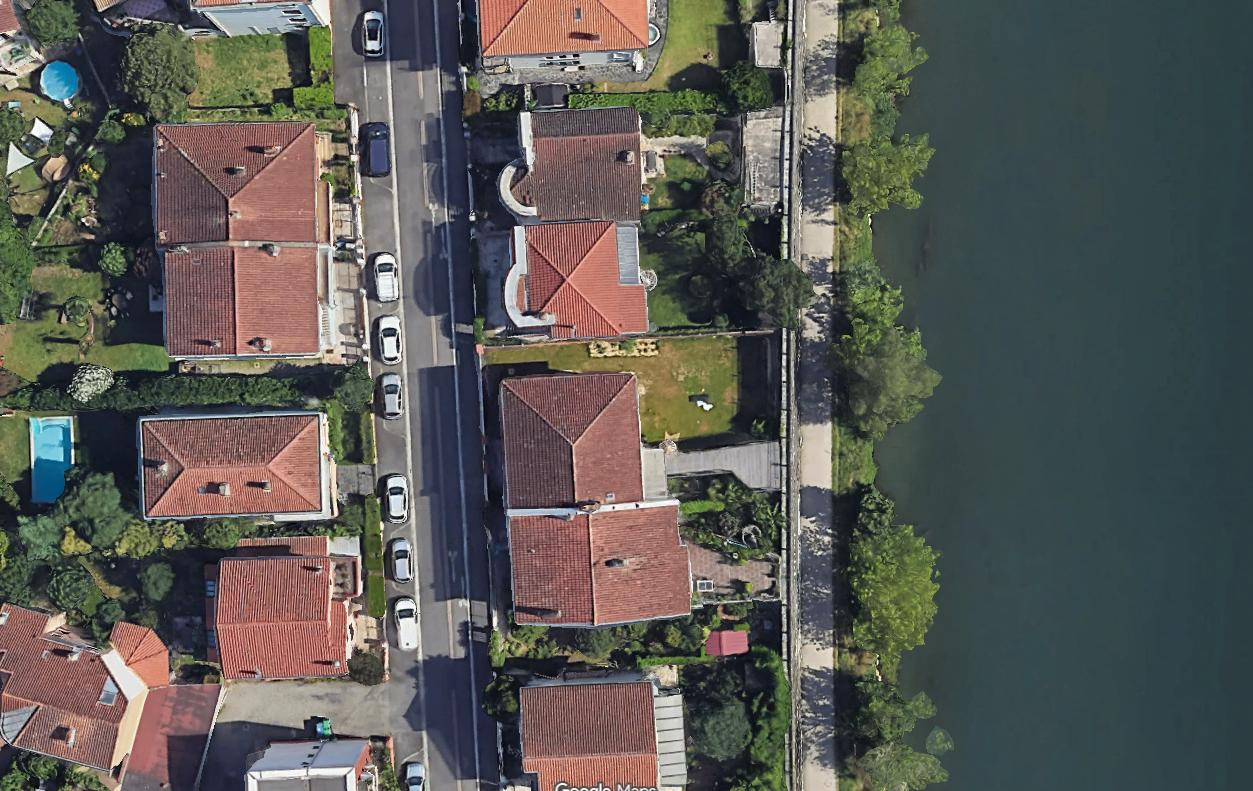maison: (0, 602, 175, 778), (508, 502, 692, 631), (138, 412, 336, 520), (495, 367, 643, 510), (494, 213, 648, 350), (153, 124, 319, 247), (205, 554, 357, 680), (496, 106, 645, 224), (165, 247, 321, 356), (520, 683, 660, 790), (478, 0, 651, 82), (245, 739, 369, 790), (193, 0, 329, 37)
